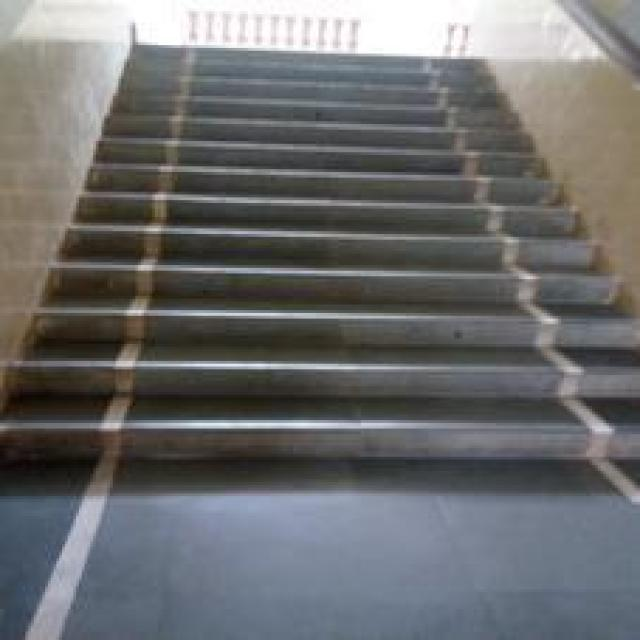upstair: (32, 218, 585, 497)
